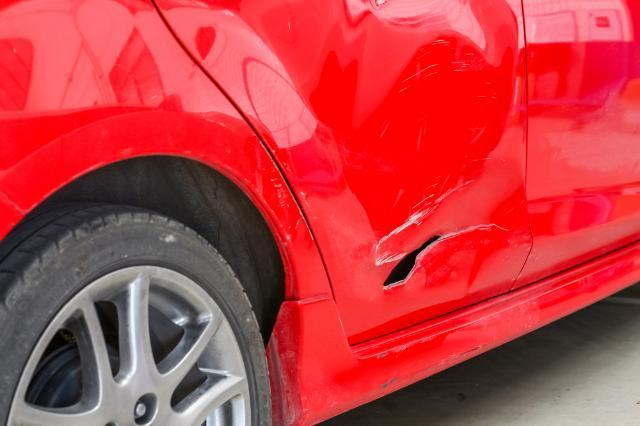crack: (382, 233, 442, 289)
dent: (349, 0, 524, 295)
scratch: (361, 322, 496, 389)
